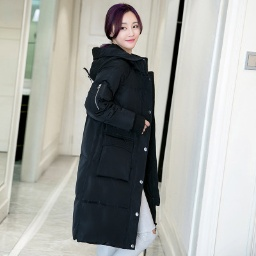face: (99, 3, 152, 51)
